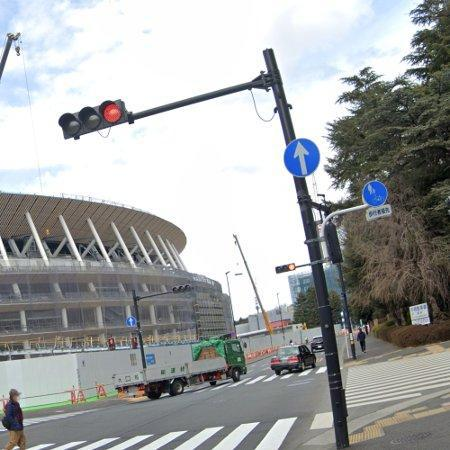crosswalks: (5, 415, 297, 450)
